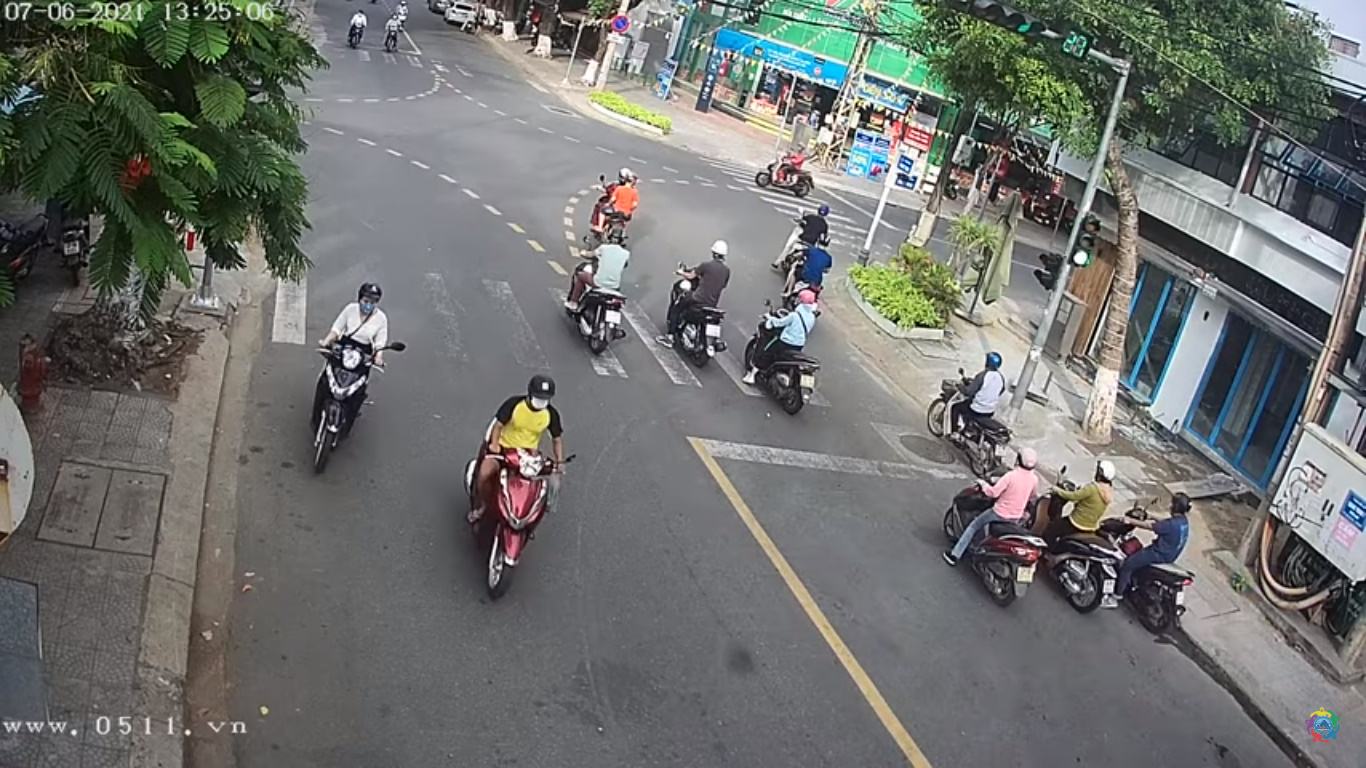motorbike: (472, 372, 566, 588), (313, 287, 394, 459)
